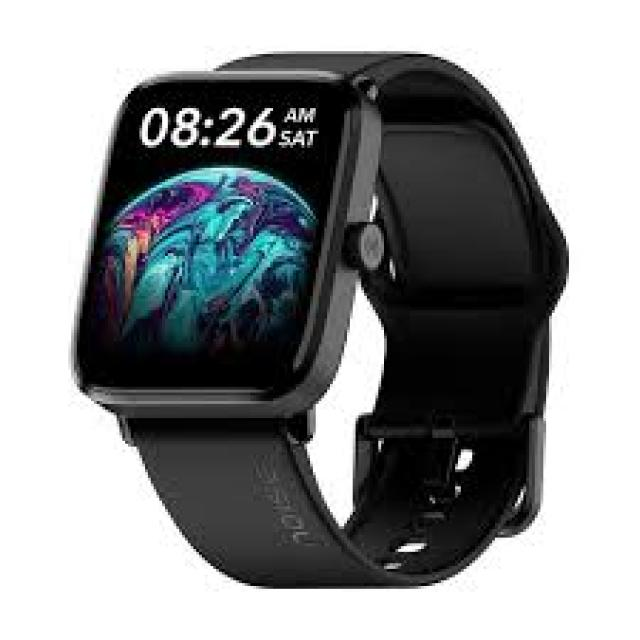objects: (70, 54, 555, 588)
